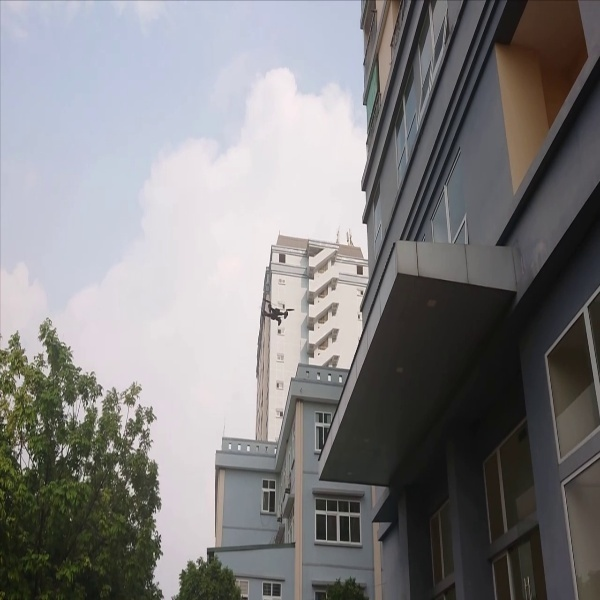drone: (251, 294, 297, 329)
